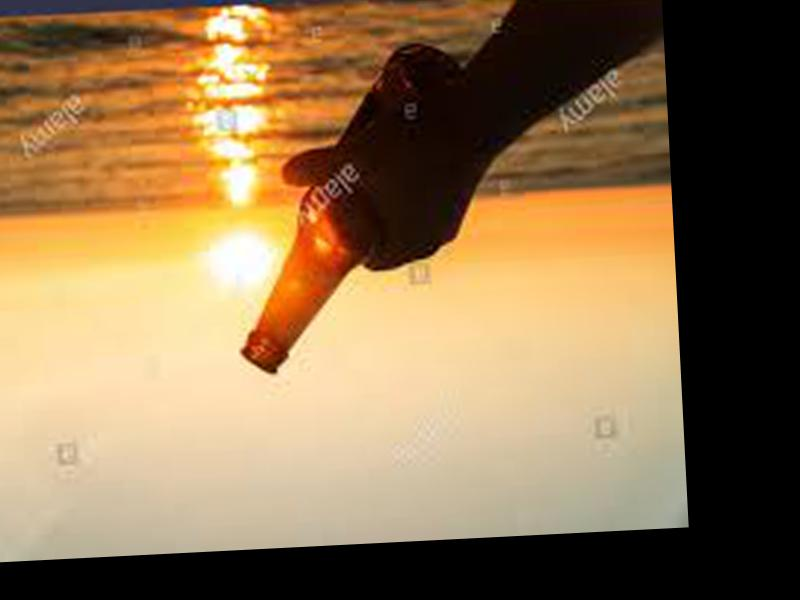Beer: (226, 40, 484, 380)
